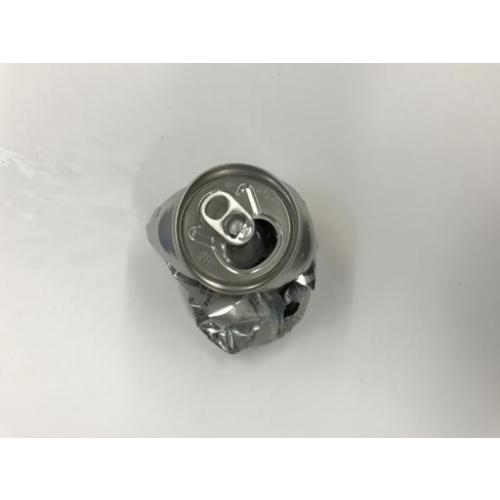metal: (151, 162, 317, 355)
